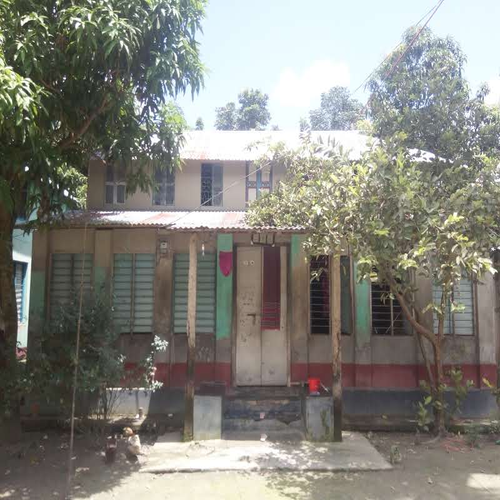Tin-shade House: (33, 97, 494, 392)
